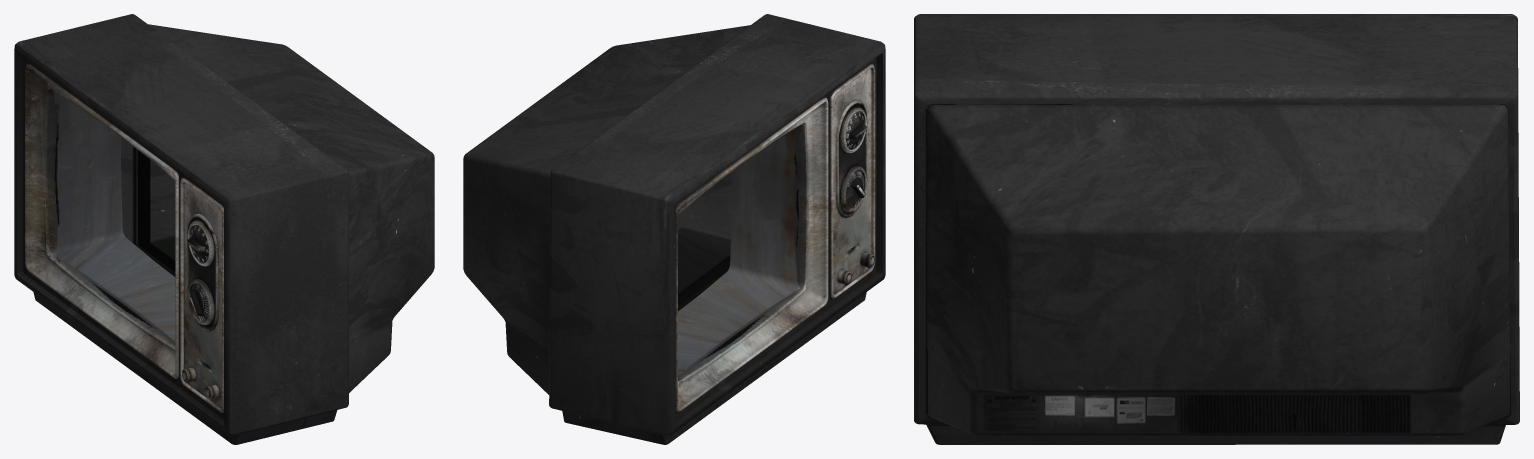
File: SM_HiRezTV.obj
3 renders of one model, left to right at view 1: azimuth 30°, elevation 25°; view 2: azimuth 150°, elevation 25°; view 3: azimuth 270°, elevation 25°, orthographic. The views are drawn at different scales.
Parts seen in each view (by area): view 1: SM_HiRezTV; view 2: SM_HiRezTV; view 3: SM_HiRezTV.
Boxes of the visible parts, x1=… form: SM_HiRezTV: x1=14, y1=14, x2=434, y2=444; SM_HiRezTV: x1=463, y1=14, x2=885, y2=444; SM_HiRezTV: x1=914, y1=14, x2=1519, y2=444.
Size of the model in its own units: 177 by 175 by 270.
Materials: 1 (1 with a texture image).
